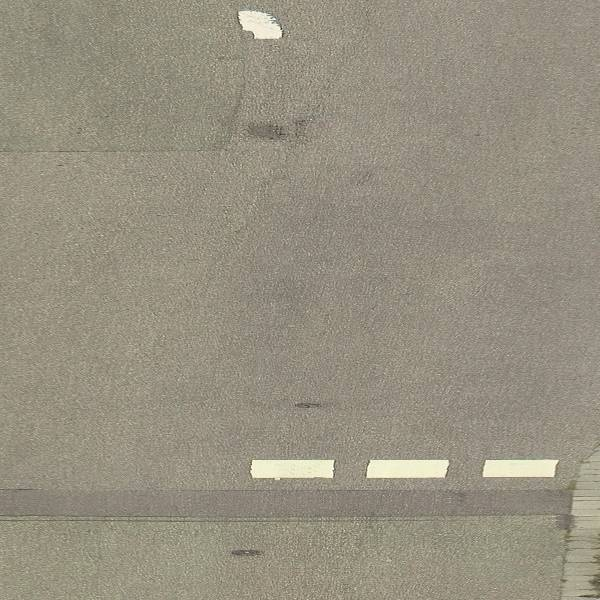road_damage: (8, 481, 563, 529), (239, 110, 320, 146)
